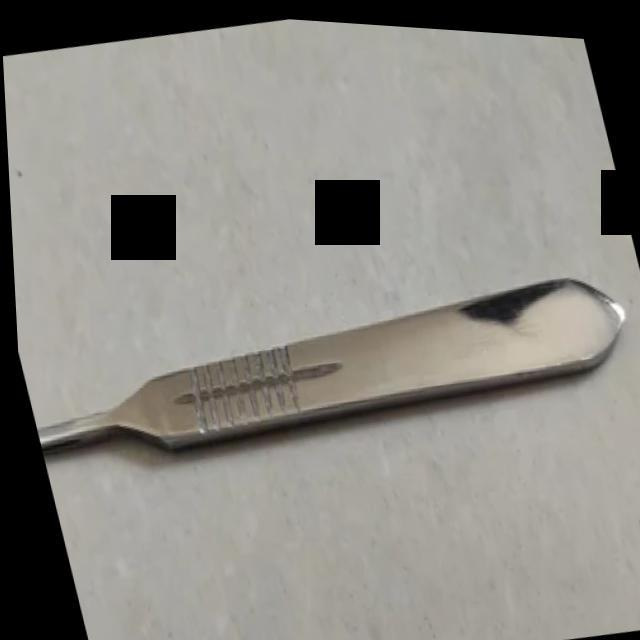Knife handle: (8, 203, 640, 521)
